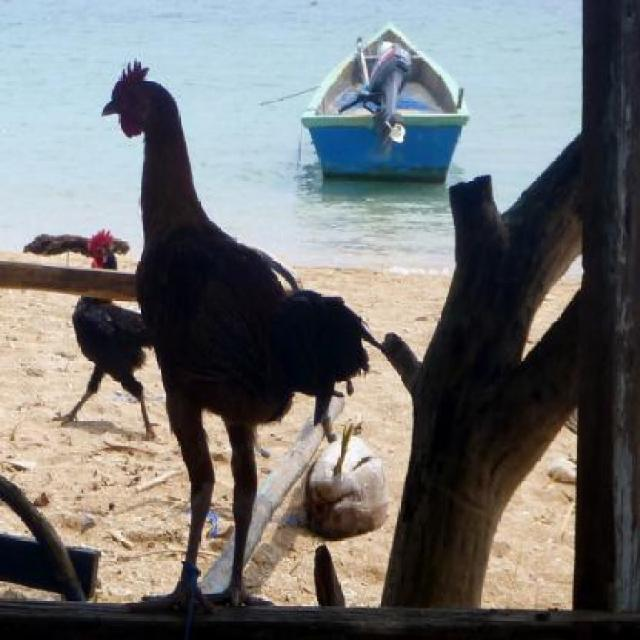ship: (298, 18, 470, 180)
